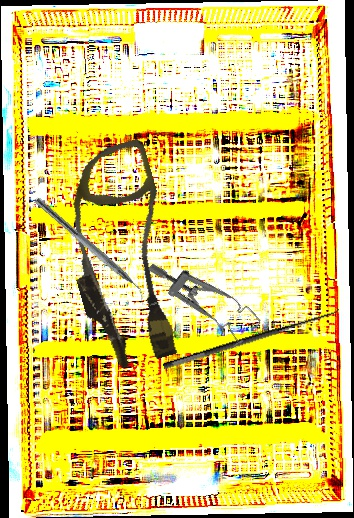Cannula: (43, 137, 202, 375)
Chopper: (27, 196, 154, 307)
Hook Surgical: (158, 295, 342, 373)
Speculum: (146, 235, 264, 358)
